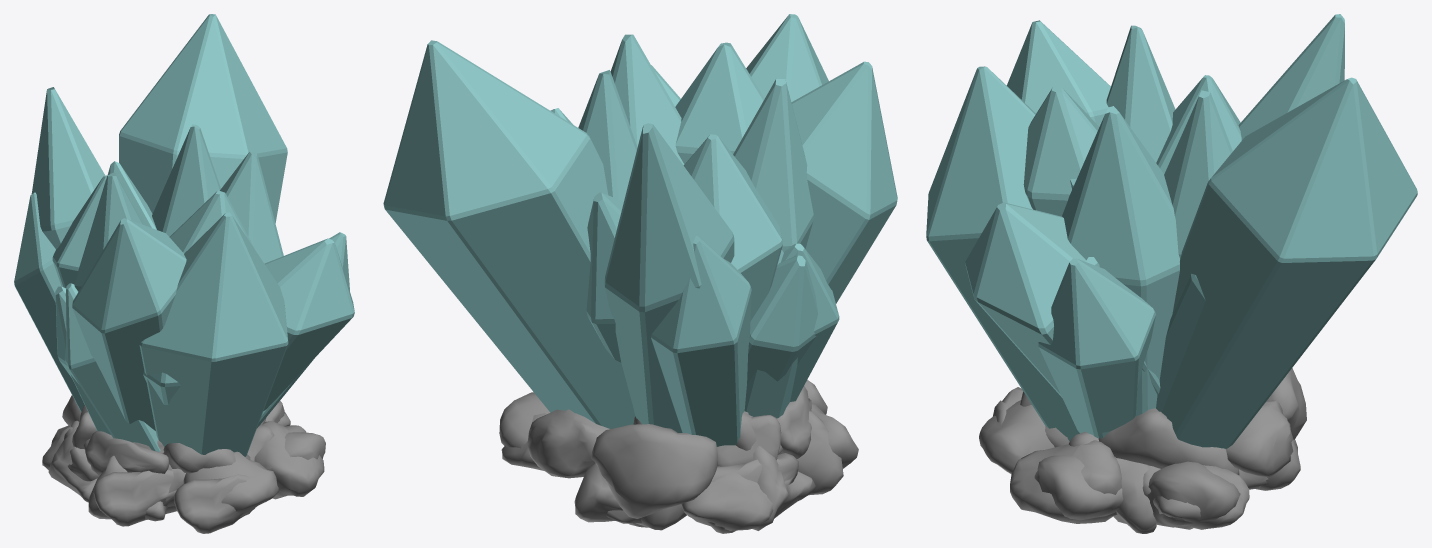
The model's file is crystals.fbx.
3 views of the same model, side by side, from view 1: azimuth 30°, elevation 25°; view 2: azimuth 150°, elevation 25°; view 3: azimuth 270°, elevation 25° (orthographic). The views are drawn at different scales.
Visible parts, largest first — view 1: crystal_2_bevel, crystal_1_bevel, crystal_4_bevel, crystal_5_bevel, rocks_3, rocks_2, crystal_3_bevel, rocks_5, crystal_6_bevel, rocks_1, rocks_4; view 2: crystal_2_bevel, crystal_1_bevel, crystal_5_bevel, rocks_5, crystal_4_bevel, crystal_3_bevel, rocks_2, crystal_6_bevel, rocks_3, rocks_1; view 3: crystal_2_bevel, crystal_4_bevel, crystal_3_bevel, crystal_5_bevel, rocks_5, rocks_2, crystal_1_bevel, rocks_3, crystal_6_bevel, rocks_1, rocks_4.
Part boxes in pixels (x1,y1,x2,y2): crystal_2_bevel: [14, 14, 349, 456]; crystal_1_bevel: [52, 175, 186, 430]; crystal_4_bevel: [55, 190, 354, 410]; crystal_5_bevel: [31, 87, 220, 249]; rocks_3: [48, 427, 325, 526]; rocks_2: [42, 401, 324, 533]; crystal_3_bevel: [71, 151, 283, 434]; rocks_5: [62, 395, 265, 475]; crystal_6_bevel: [74, 172, 250, 291]; rocks_1: [64, 412, 290, 506]; rocks_4: [165, 425, 272, 513]; crystal_2_bevel: [383, 14, 839, 446]; crystal_1_bevel: [683, 61, 897, 320]; crystal_5_bevel: [578, 70, 734, 432]; rocks_5: [527, 386, 811, 518]; crystal_4_bevel: [651, 42, 817, 383]; crystal_3_bevel: [586, 34, 797, 418]; rocks_2: [499, 380, 843, 530]; crystal_6_bevel: [733, 78, 813, 252]; rocks_3: [636, 404, 858, 530]; rocks_1: [501, 413, 798, 533]; crystal_2_bevel: [926, 66, 1417, 448]; crystal_4_bevel: [965, 86, 1205, 411]; crystal_3_bevel: [1062, 106, 1179, 438]; crystal_5_bevel: [1164, 14, 1344, 258]; rocks_5: [1020, 368, 1306, 477]; rocks_2: [993, 387, 1268, 529]; crystal_1_bevel: [1007, 20, 1241, 394]; rocks_3: [979, 400, 1160, 520]; crystal_6_bevel: [1070, 25, 1175, 266]; rocks_1: [1069, 432, 1300, 533]; rocks_4: [1069, 431, 1239, 530].
Size of the model in its own units: 621 by 817 by 744.
